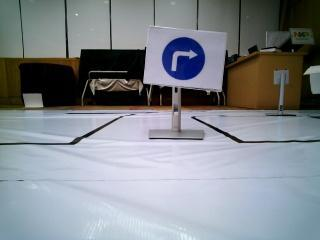right: (149, 28, 223, 89)
